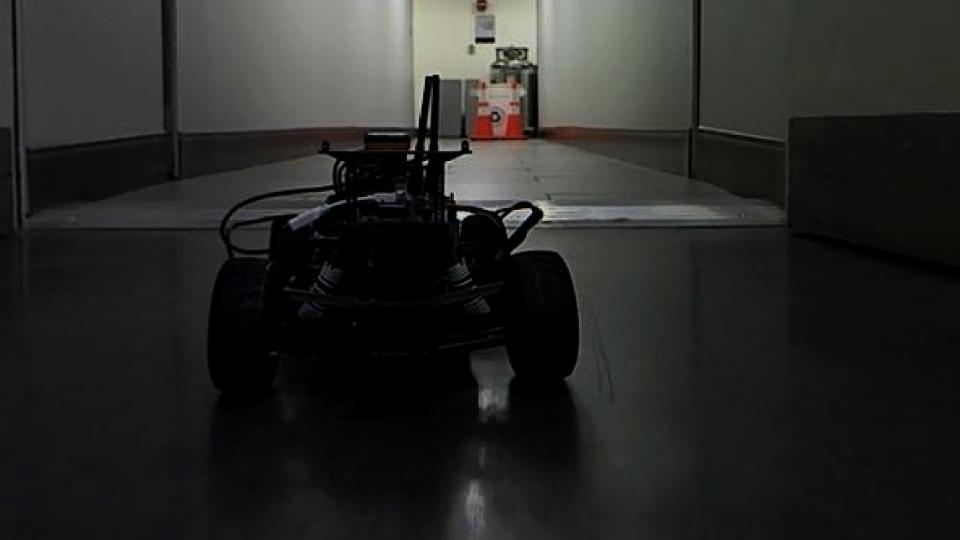car: (204, 73, 584, 400)
